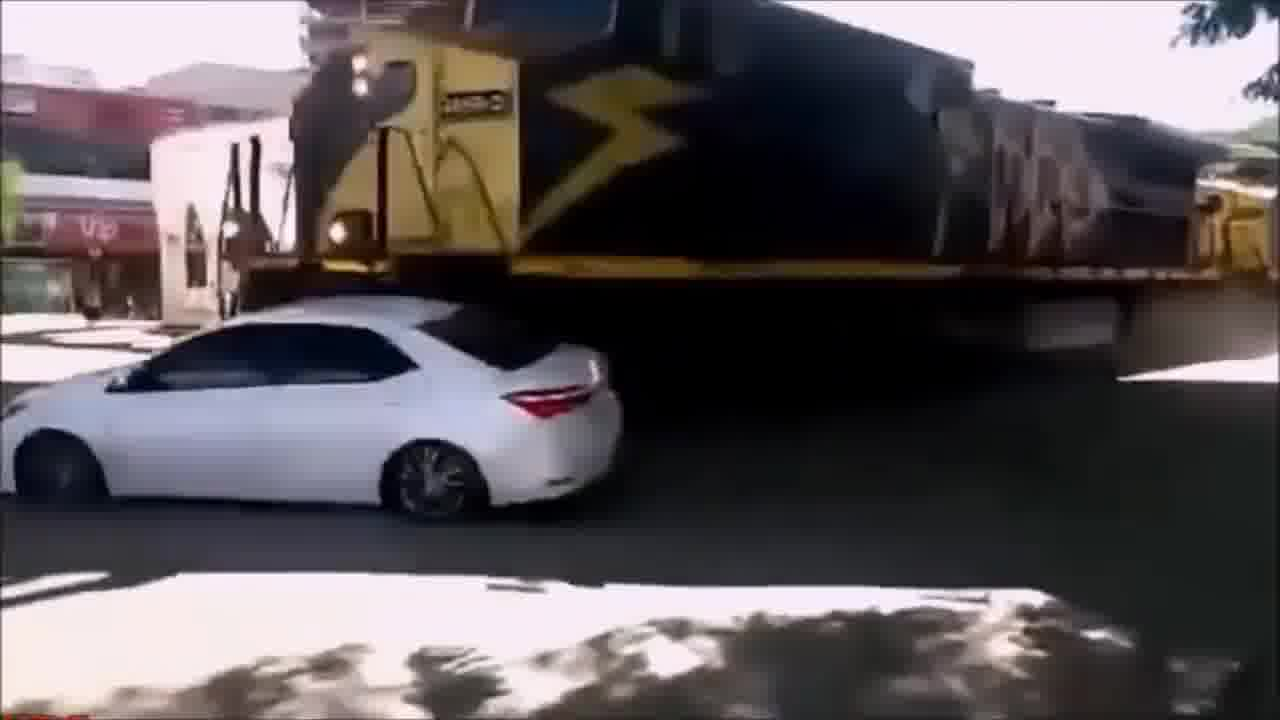crossing railway track: (6, 220, 658, 555)
